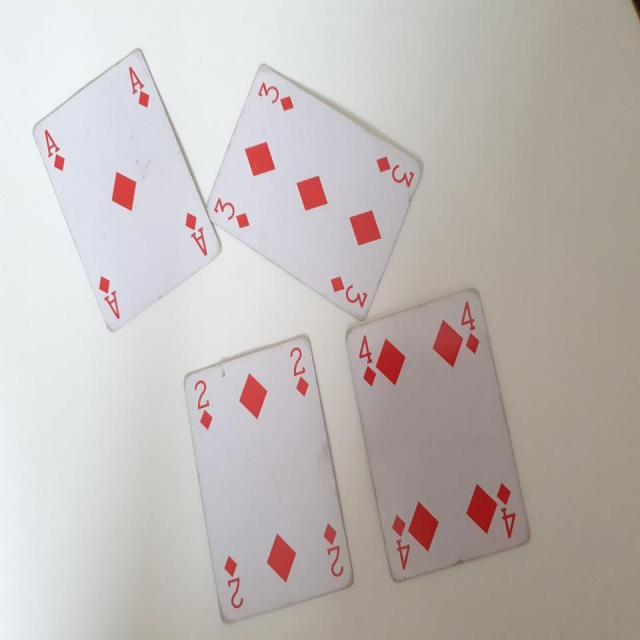2 of diamonds: (178, 335, 356, 626)
3 of diamonds: (204, 59, 422, 318)
4 of diamonds: (345, 286, 536, 587)
ace of diamonds: (22, 47, 223, 344)
